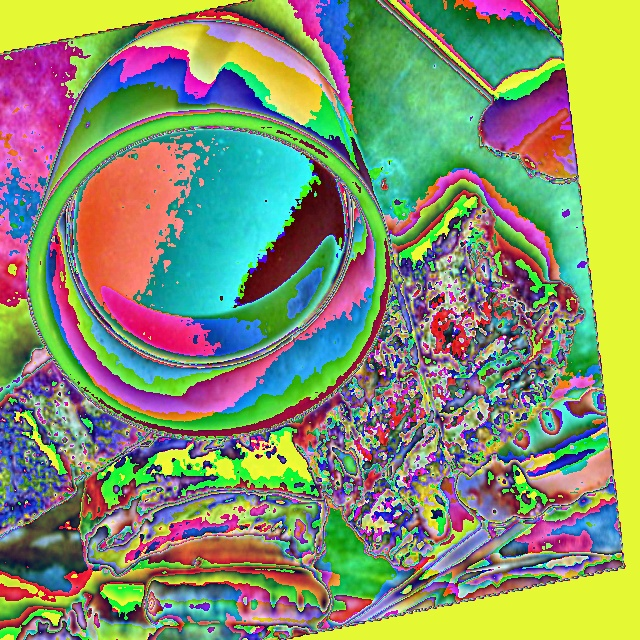background: (0, 194, 585, 578), (12, 71, 332, 639), (67, 129, 352, 369), (101, 59, 578, 186)
